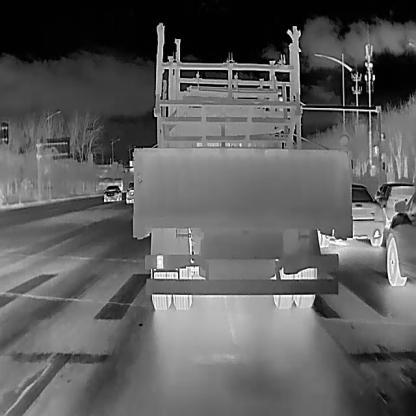car: (131, 76, 354, 310), (310, 181, 385, 247), (375, 180, 416, 229), (101, 182, 123, 202), (124, 180, 137, 204)
